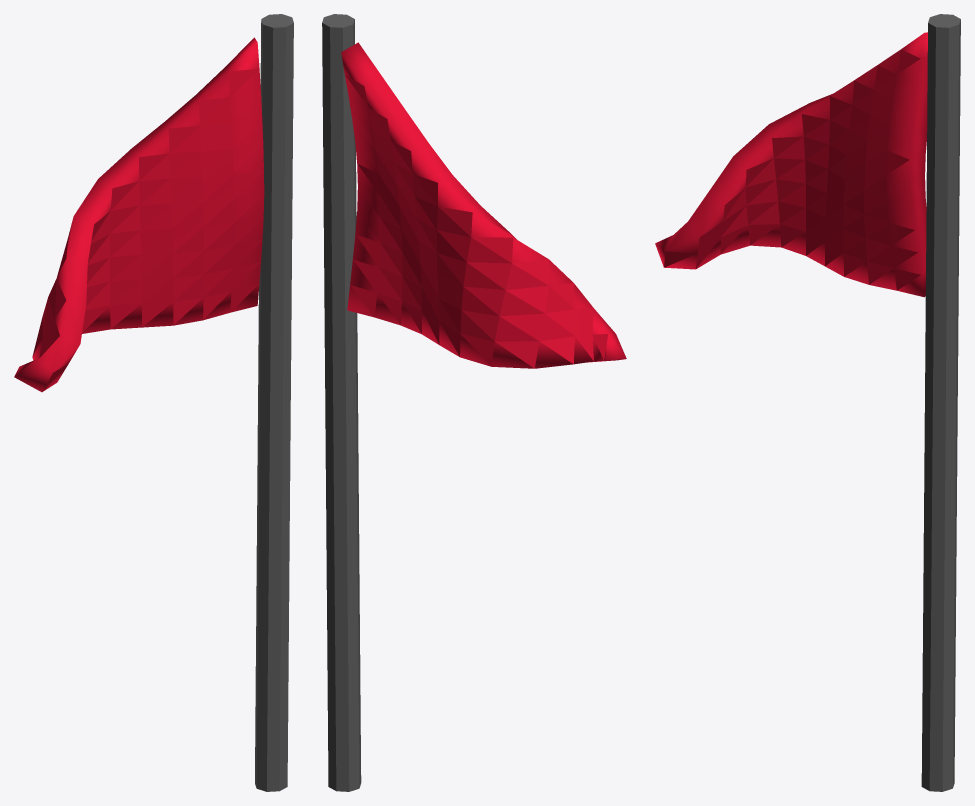
The model's file is Flag.fbx.
3 renders of one model, left to right at view 1: azimuth 30°, elevation 25°; view 2: azimuth 150°, elevation 25°; view 3: azimuth 330°, elevation 25°, orthographic.
Parts seen in each view (by area): view 1: flag, pole; view 2: flag, pole; view 3: flag, pole.
Part boxes in pixels (x1,y1,x2,y2): flag: [14, 37, 264, 392]; pole: [255, 14, 293, 791]; flag: [341, 42, 626, 368]; pole: [322, 14, 361, 791]; flag: [655, 32, 927, 297]; pole: [921, 14, 960, 791].
Size of the model in its own units: 108 by 271 by 35.42.
